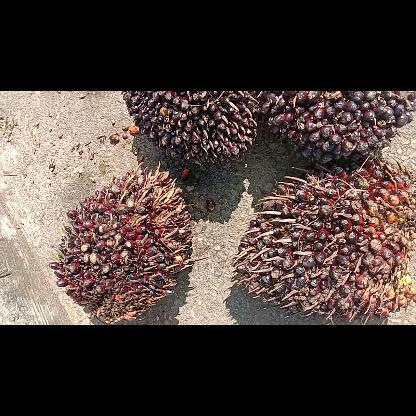TBS mentah: (229, 164, 415, 324), (50, 160, 209, 324), (262, 91, 414, 173), (122, 90, 262, 172)
